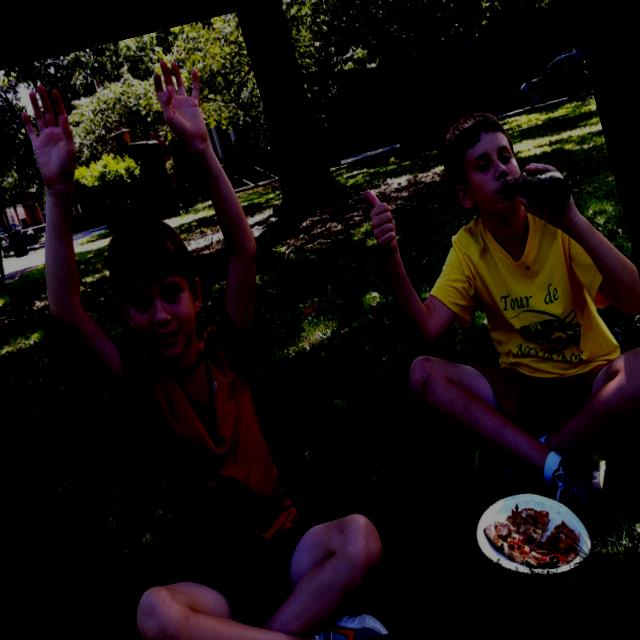Vehicle: (508, 47, 592, 108), (0, 219, 38, 259)
